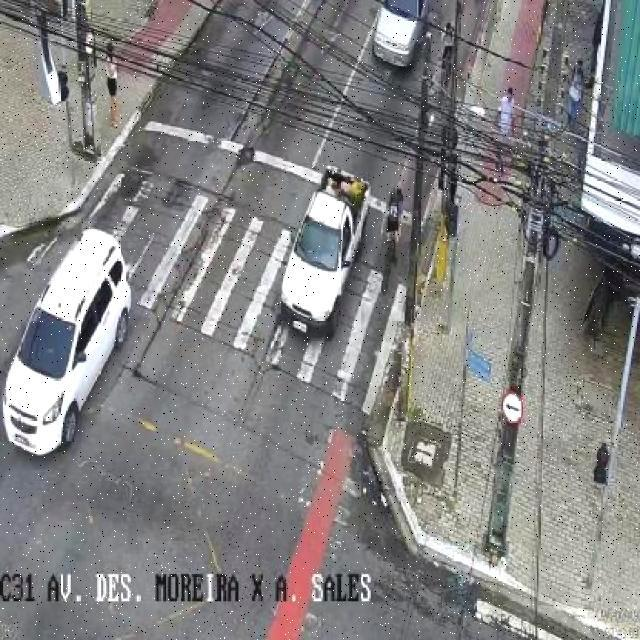Car: (3, 220, 132, 460), (278, 167, 369, 338)
